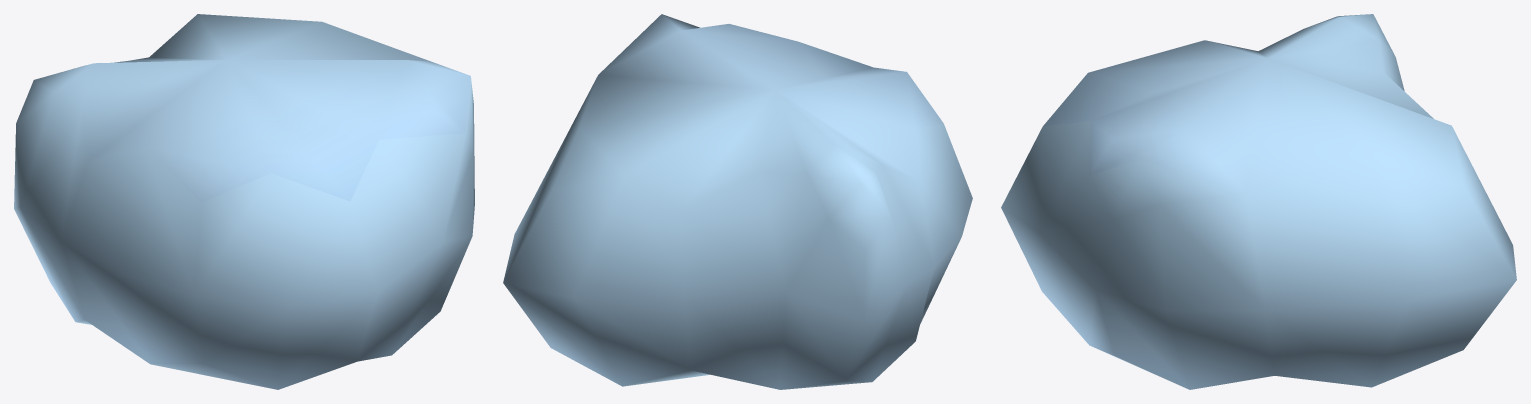
The model's file is Rock 06.FBX.
3 views of the same model, side by side, from view 1: azimuth 30°, elevation 25°; view 2: azimuth 150°, elevation 25°; view 3: azimuth 270°, elevation 25° (orthographic). The views are drawn at different scales.
Visible parts, largest first — view 1: Box001; view 2: Box001; view 3: Box001.
Boxes of the visible parts, <box> form: Box001: <box>14,14,474,389</box>; Box001: <box>503,14,972,389</box>; Box001: <box>1001,14,1516,389</box>.
Bounding box in the file's own units: 31.29 × 22.68 × 36.41.
